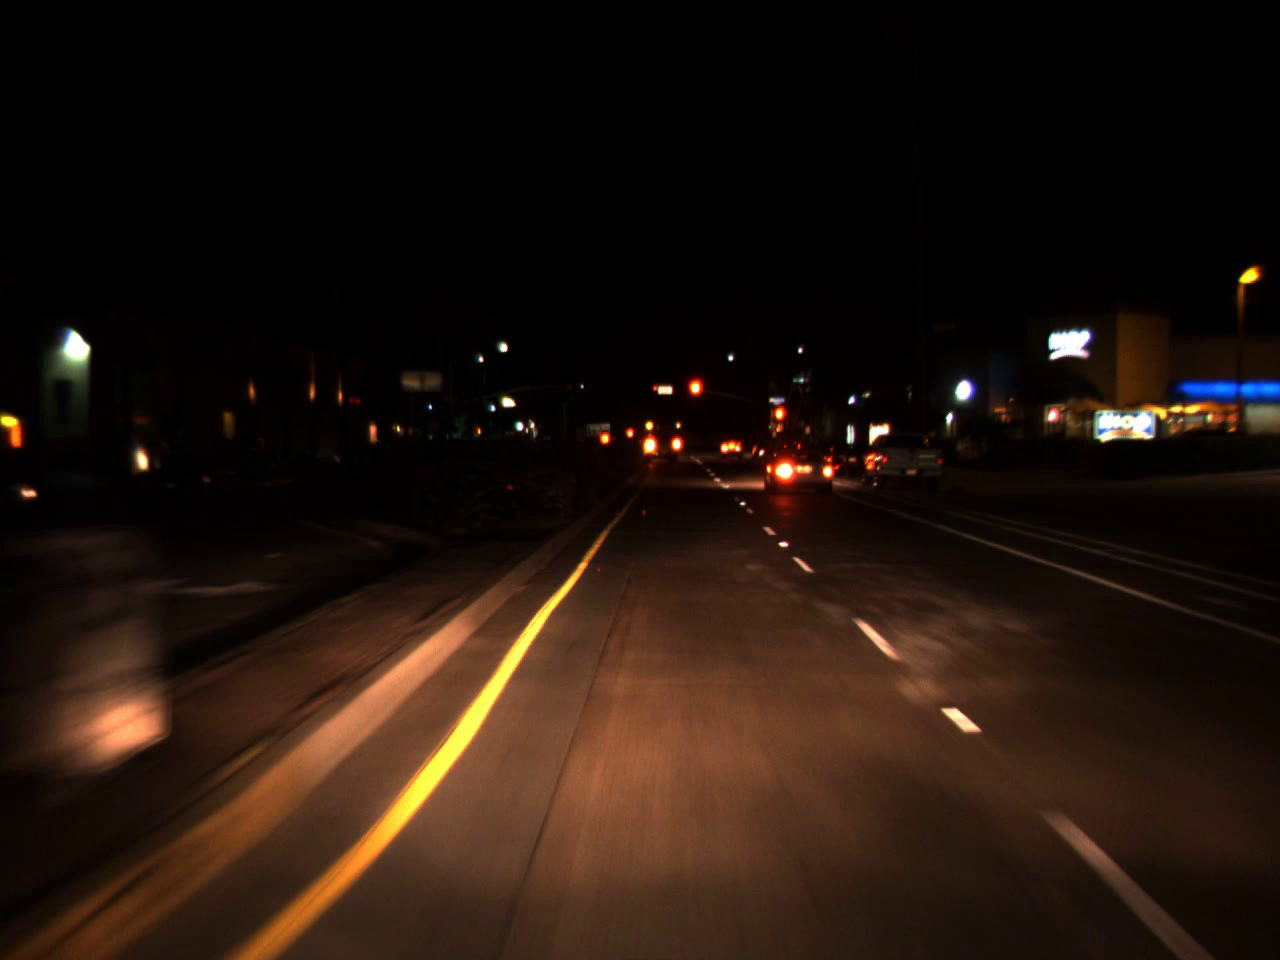stop: (685, 376, 703, 416), (771, 403, 789, 438), (653, 385, 659, 395)
